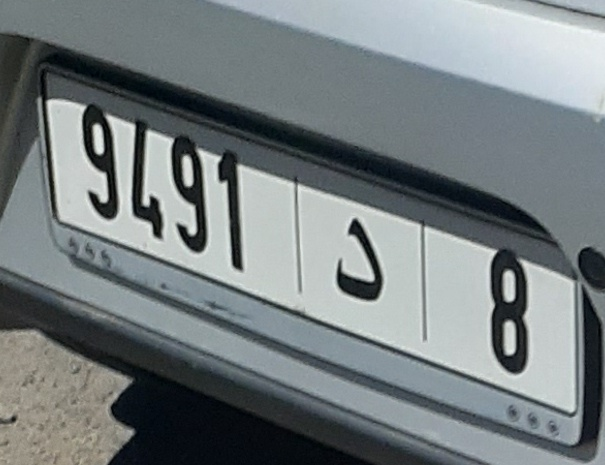1: (210, 144, 250, 275)
4: (125, 115, 166, 242)
8: (475, 239, 541, 377)
9: (71, 89, 120, 231), (170, 133, 207, 251)
d: (328, 209, 394, 311)
